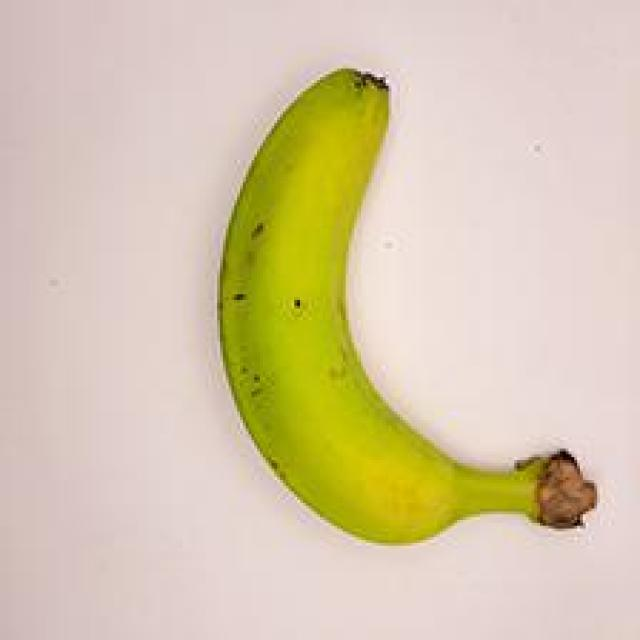Unripe: (196, 52, 608, 557)
